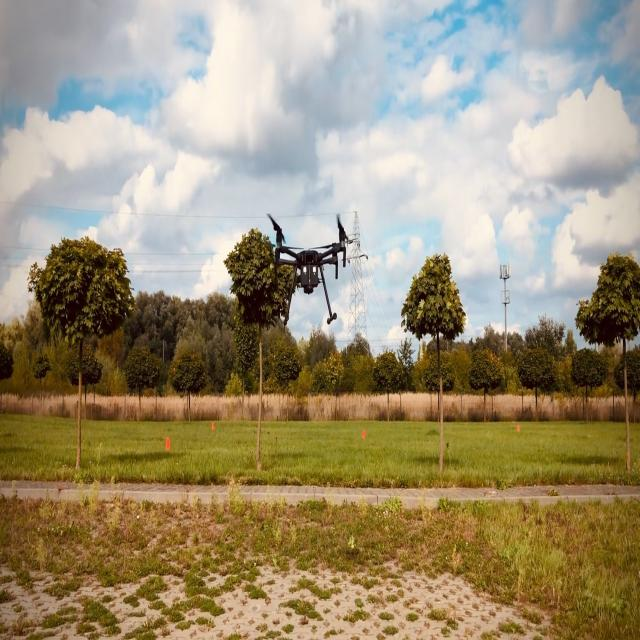drone: (265, 210, 366, 327)
